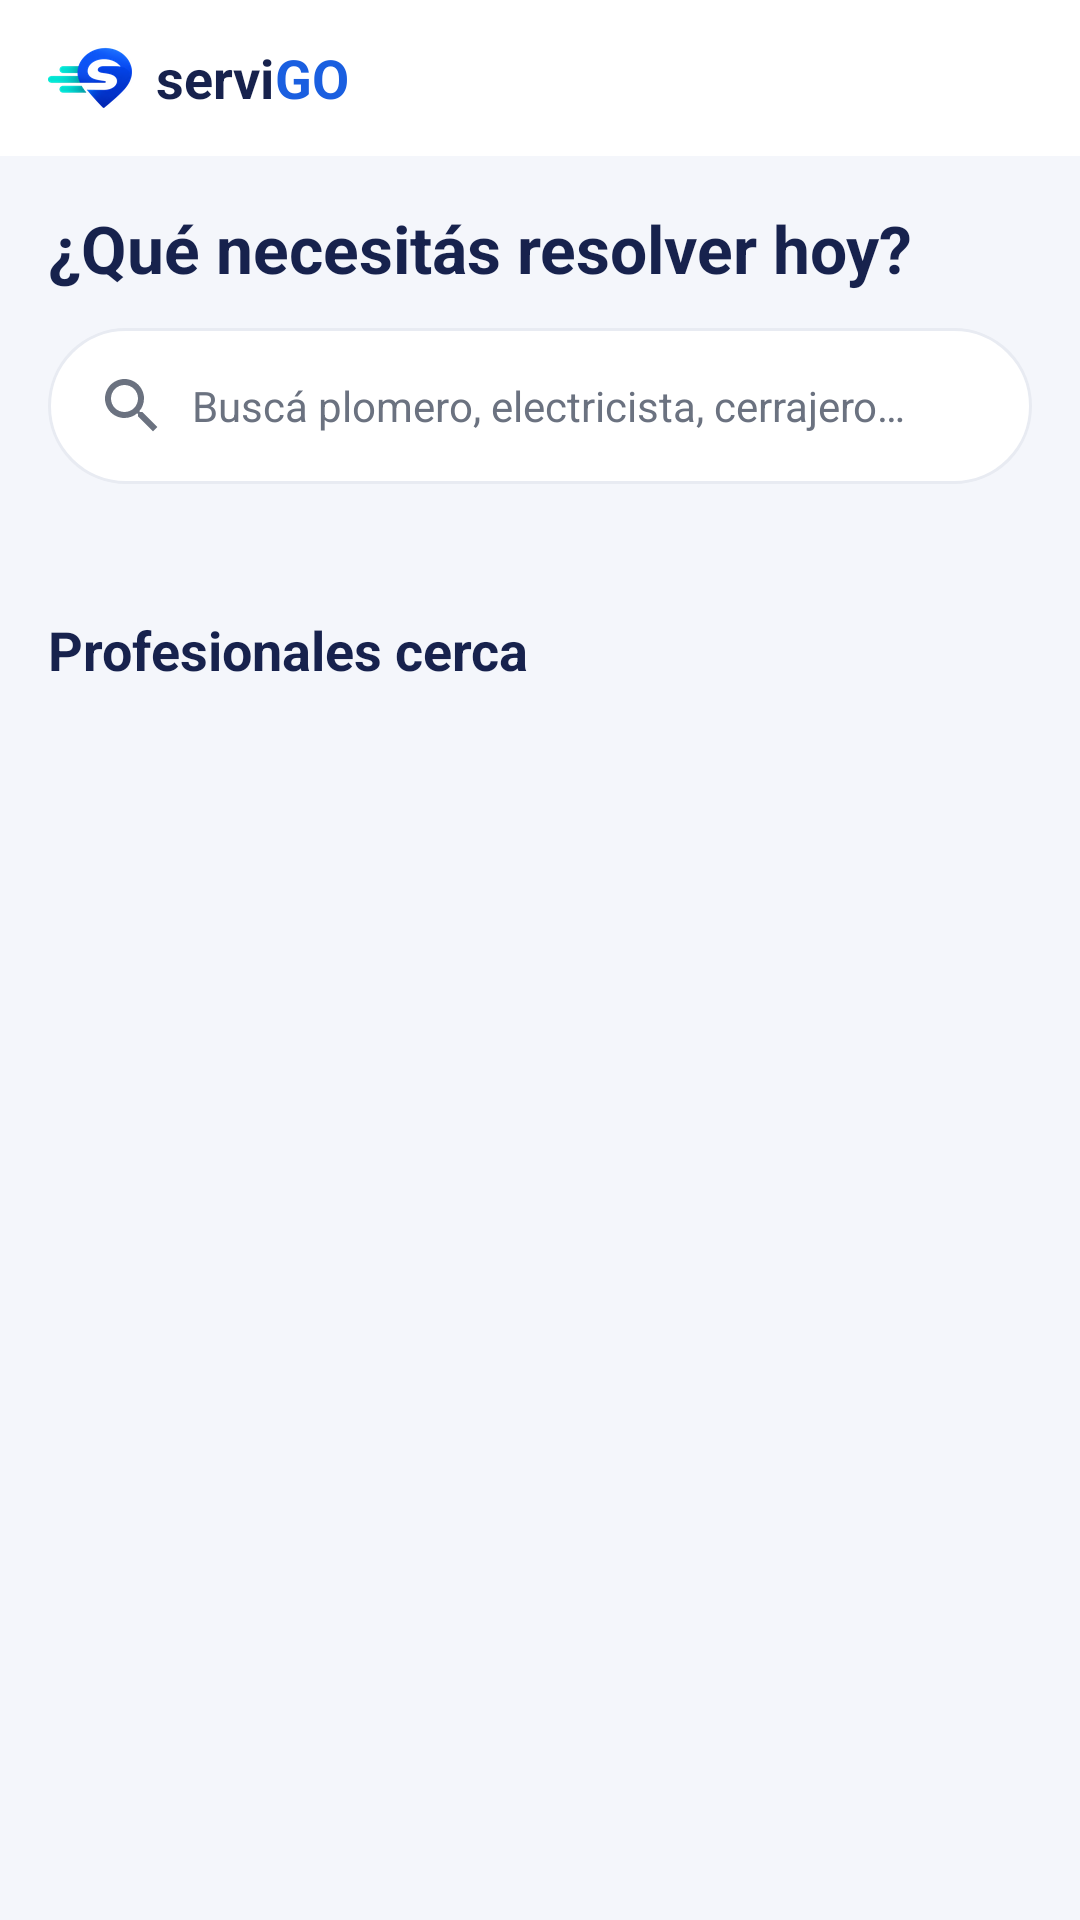

Locate icon controls on the screen. Image size 1080x1920, boxes as [x1, y1, x2, y2].
Buscar: [105, 379, 157, 431]
